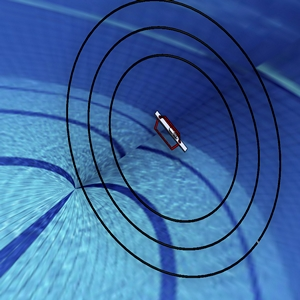circle: (58, 1, 290, 296)
submarine: (141, 98, 193, 166)
